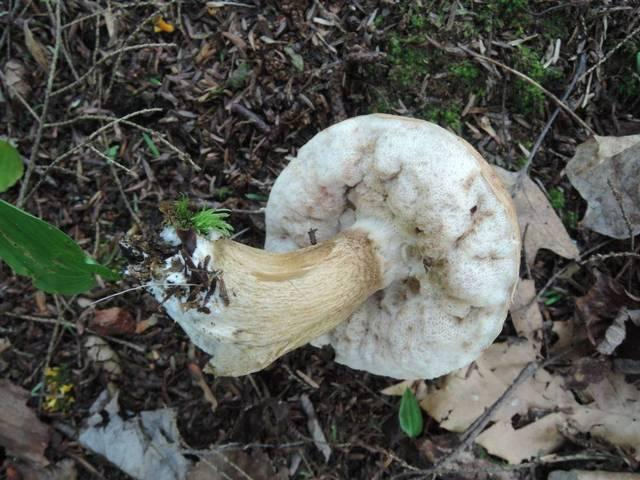Non-edible Mushroom: (137, 110, 523, 385)
